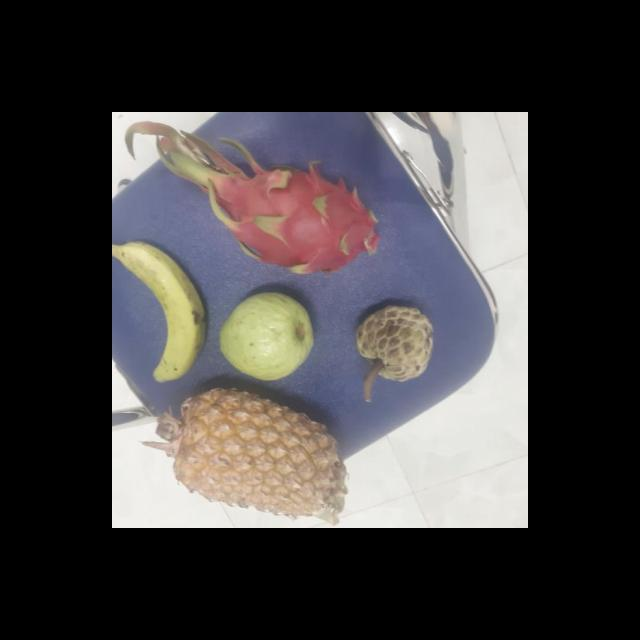Sakya fruit: (358, 304, 438, 384)
banana: (113, 237, 210, 382)
guava: (220, 292, 320, 378)
pineapple: (170, 382, 348, 519)
pitaya: (212, 161, 388, 275)
